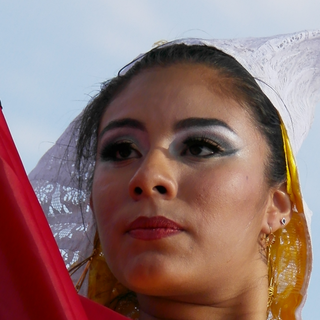eye: (100, 135, 145, 163), (178, 136, 220, 160)
